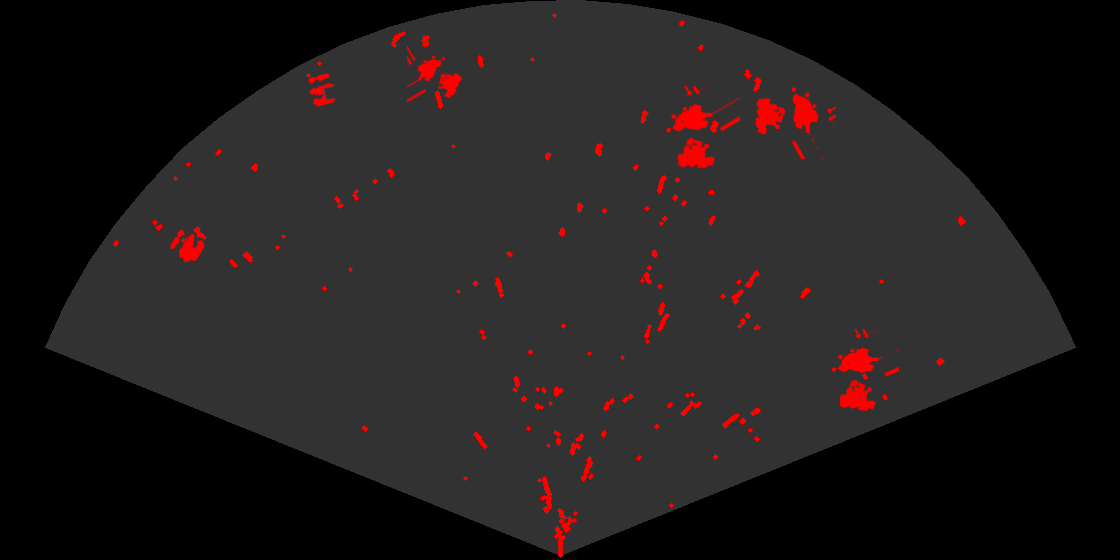ball: (168, 228, 206, 264), (306, 72, 337, 108)
cage: (664, 86, 740, 170), (754, 86, 836, 159), (830, 329, 899, 413), (407, 44, 464, 105)
